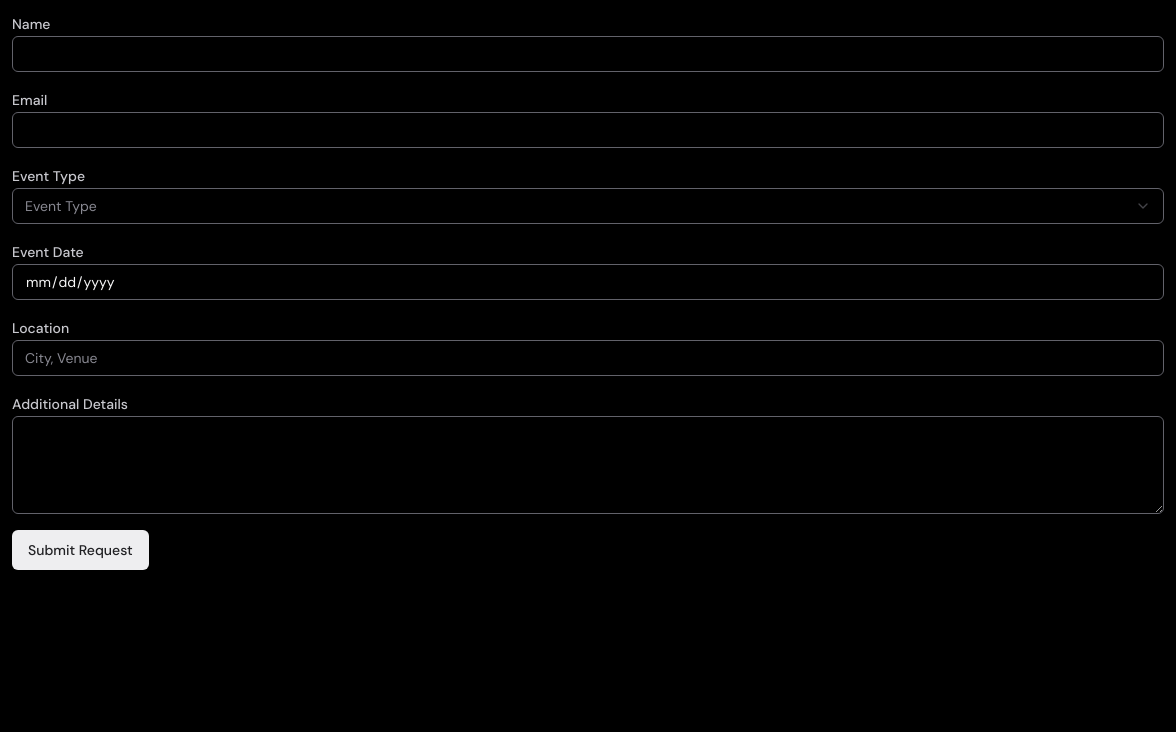
Test: BookingForm › shows success message after successful submission
Type "John Doe" into the field with test id "booking-name" at (588, 54), box [12,36,1164,72]
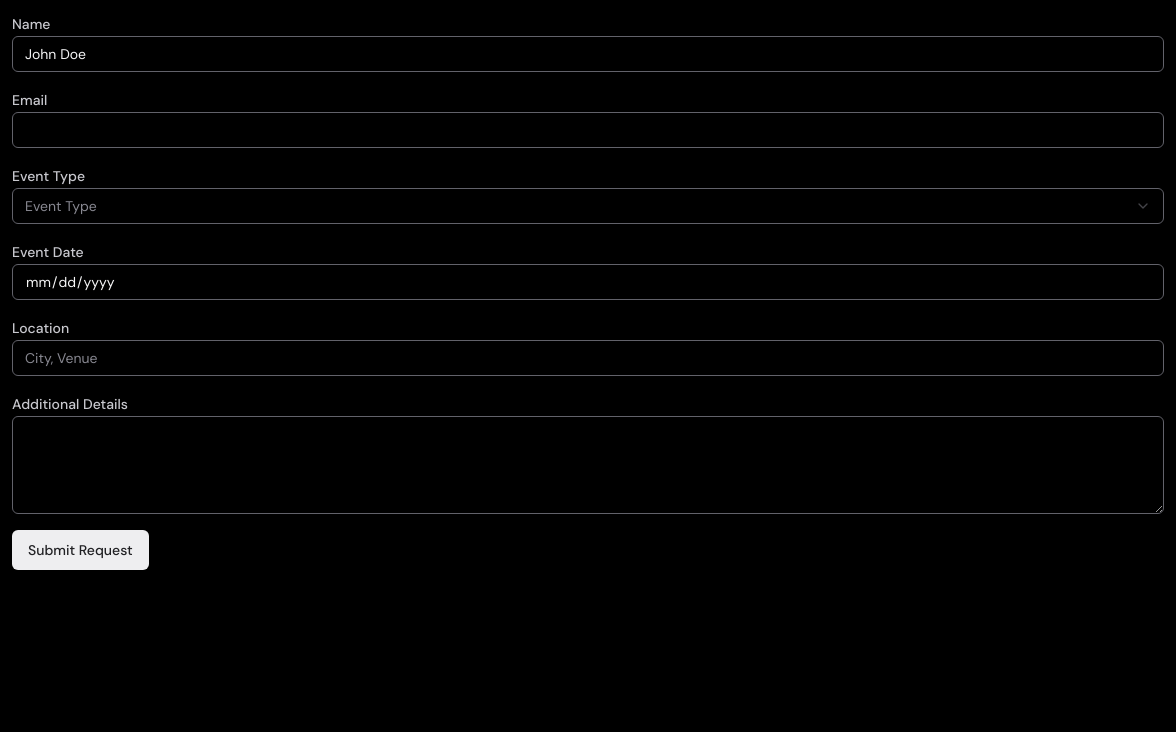
Type "john@example.com" into the field with test id "booking-email" at (588, 130), box [12,112,1164,148]
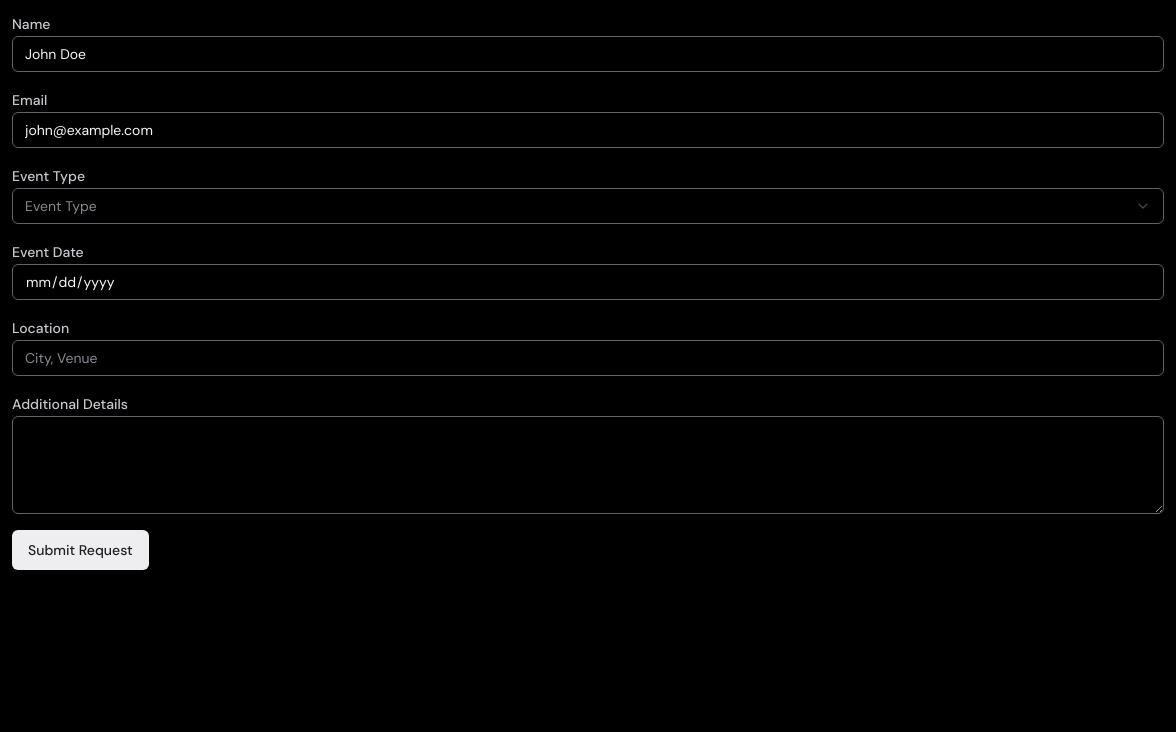
Submit the form with test id "booking-form"
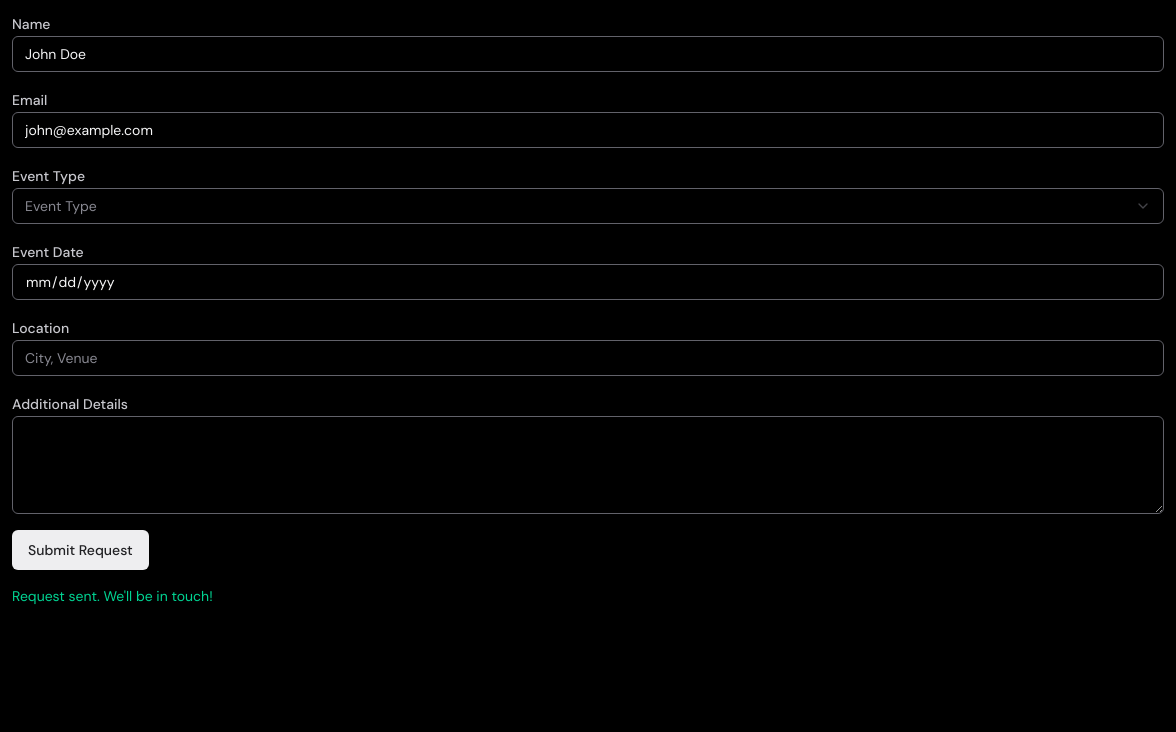
expect the text "Request sent. We'll be in touch!" is shown: met, box [12,587,213,605]
